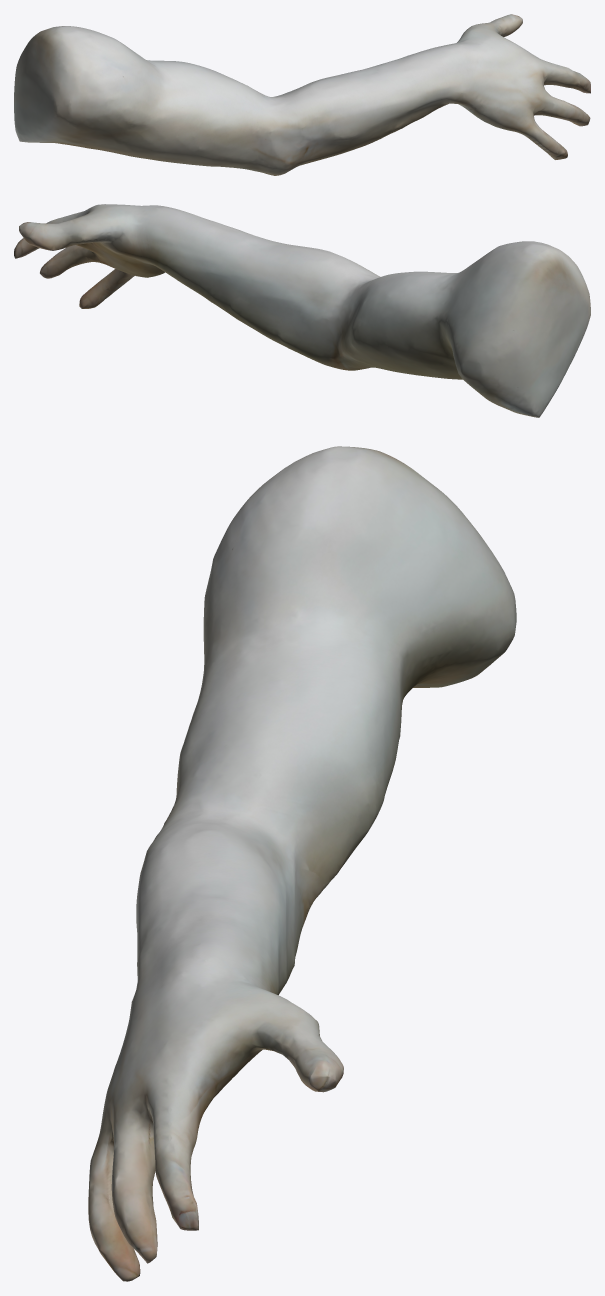
Rendered from whiteArm.glb.
3 renders of one model, top to bottom at view 1: azimuth 30°, elevation 25°; view 2: azimuth 150°, elevation 25°; view 3: azimuth 270°, elevation 25°, orthographic. The views are drawn at different scales.
Bounding box in the file's own units: 1.2 × 0.438 × 0.4325.
1 material, 1 textured.
